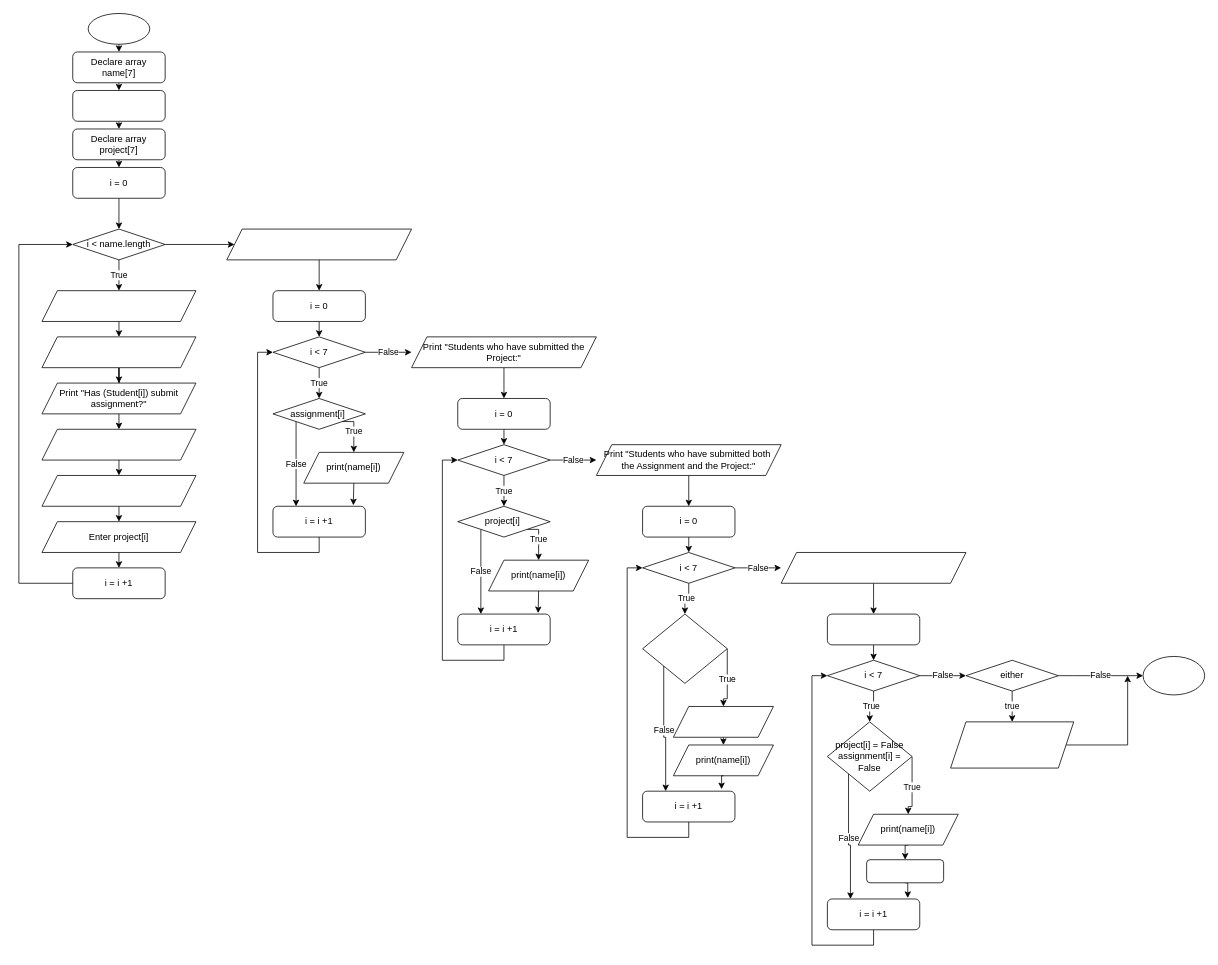
Image size: 1218x965. Some labels were removed from this diagram. The shapes that lost their labels are listed below. From the top down, each one's centre as x and y in pixels, then its label:
point 118,28: Start
point 118,105: Declare array assignment[7]
point 319,244: Print "Students who have submitted the Assignment:"
point 118,305: Print"Enter Student Name
point 118,352: Enter name[i]
point 118,444: Enter assignment[i]
point 118,490: Print "Has (Student) submit project?"
point 873,567: Print "Students who have not submitted both the Assignment and the Project:"
point 684,648: project[i] = True assignment[i] = True
point 873,629: i = 0 Either = true
point 1173,675: End
point 723,721: print(index + i)
point 1012,744: Print" All student have submitted either the assignment or the project"
point 905,871: Either = false
